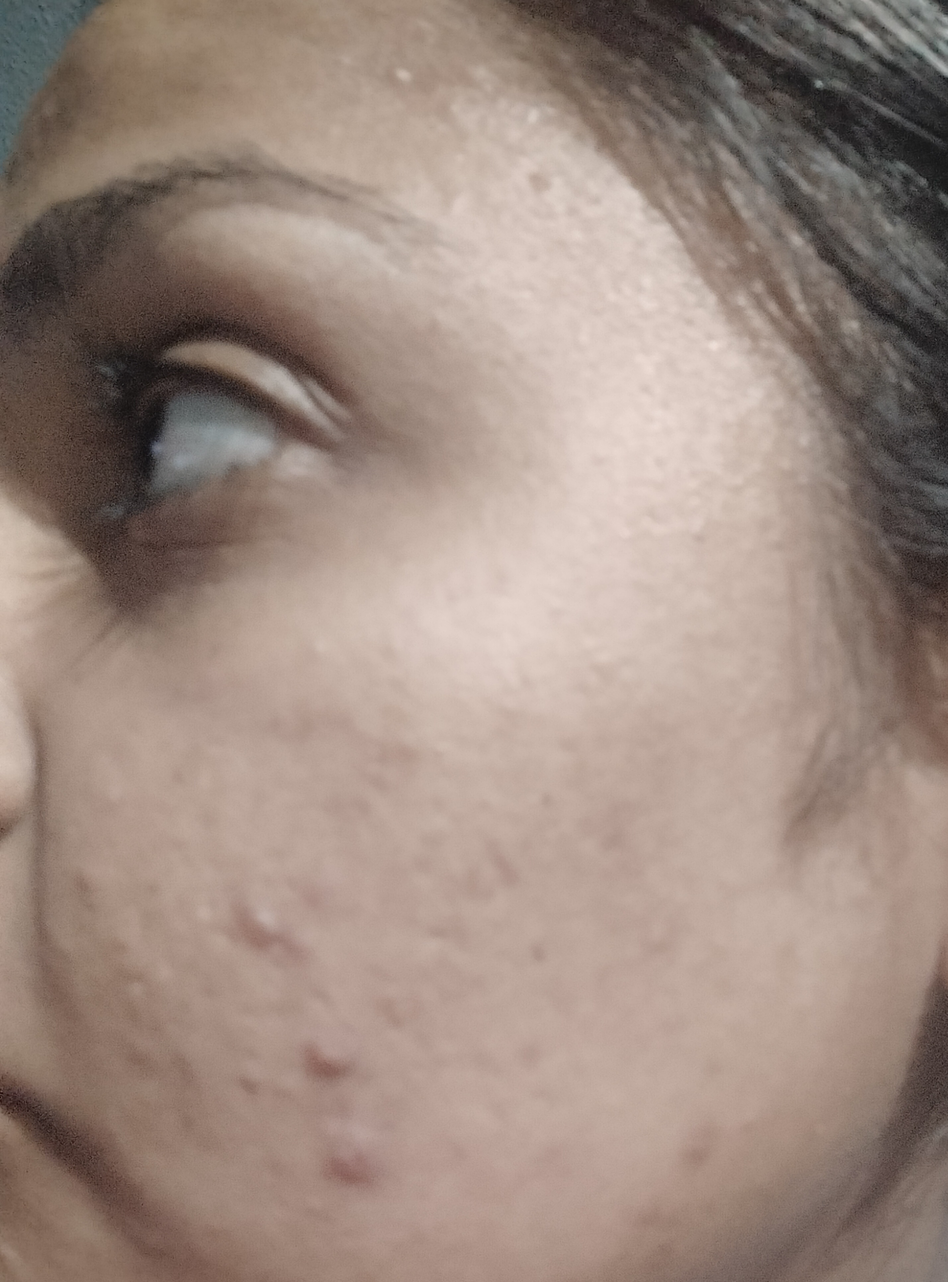papule: (320, 1102, 394, 1208), (271, 1009, 368, 1070), (223, 876, 286, 954)
